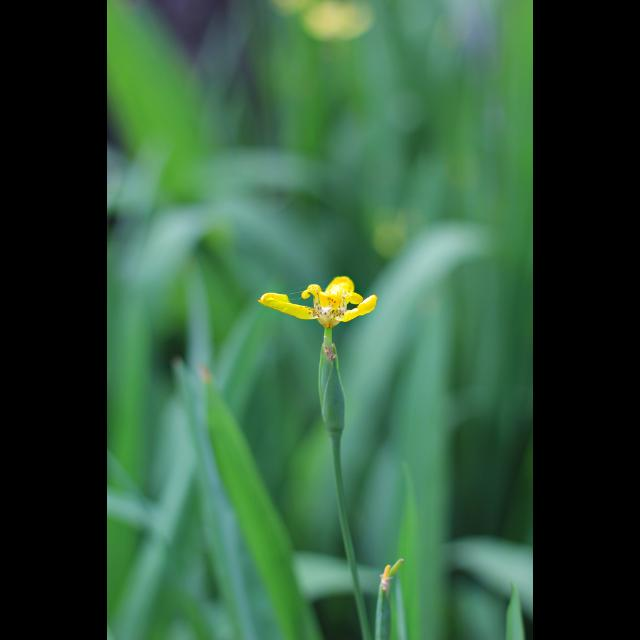Flower: (257, 276, 377, 330), (266, 0, 370, 46)
